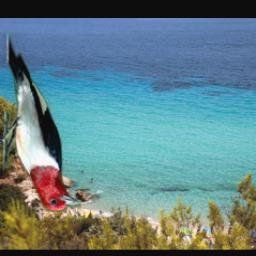Woodpecker: (0, 34, 82, 213)
